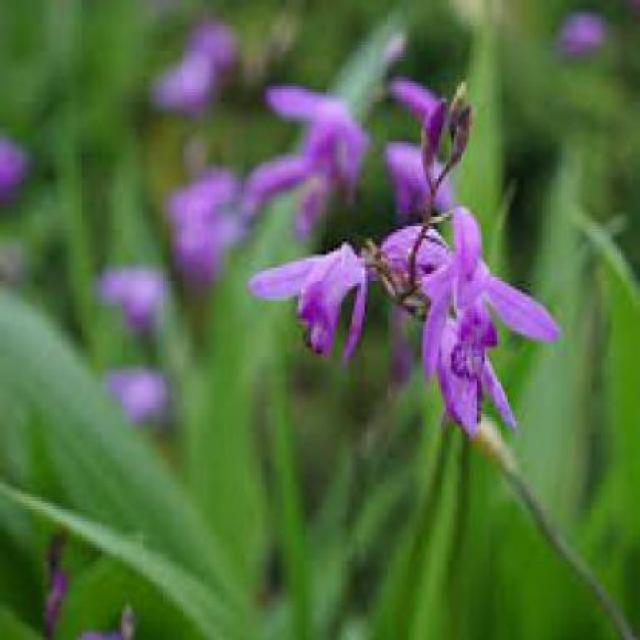Flower: (416, 210, 559, 382), (245, 242, 368, 366)
